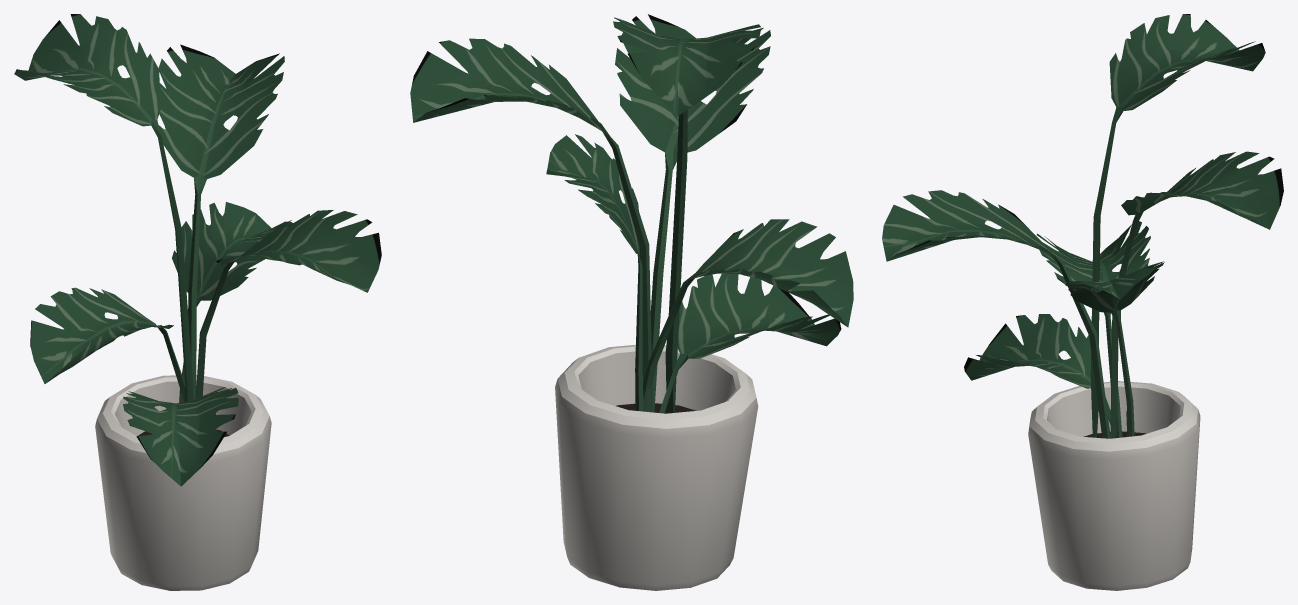
File: pant.glb
3 renders of one model, left to right at view 1: azimuth 30°, elevation 25°; view 2: azimuth 150°, elevation 25°; view 3: azimuth 270°, elevation 25°, orthographic. The views are drawn at different scales.
Visible parts, largest first — view 1: Cylinder.003_1, Cylinder.003_0; view 2: Cylinder.003_1, Cylinder.003_0; view 3: Cylinder.003_1, Cylinder.003_0.
Boxes of the visible parts, <box> form: Cylinder.003_1: <box>14,14,381,486</box>; Cylinder.003_0: <box>95,375,271,590</box>; Cylinder.003_1: <box>410,14,853,413</box>; Cylinder.003_0: <box>555,344,758,590</box>; Cylinder.003_1: <box>882,14,1283,438</box>; Cylinder.003_0: <box>1028,381,1200,590</box>.
Bounding box in the file's own units: 0.9586 × 1.56 × 1.12.
3 materials, 1 textured.
